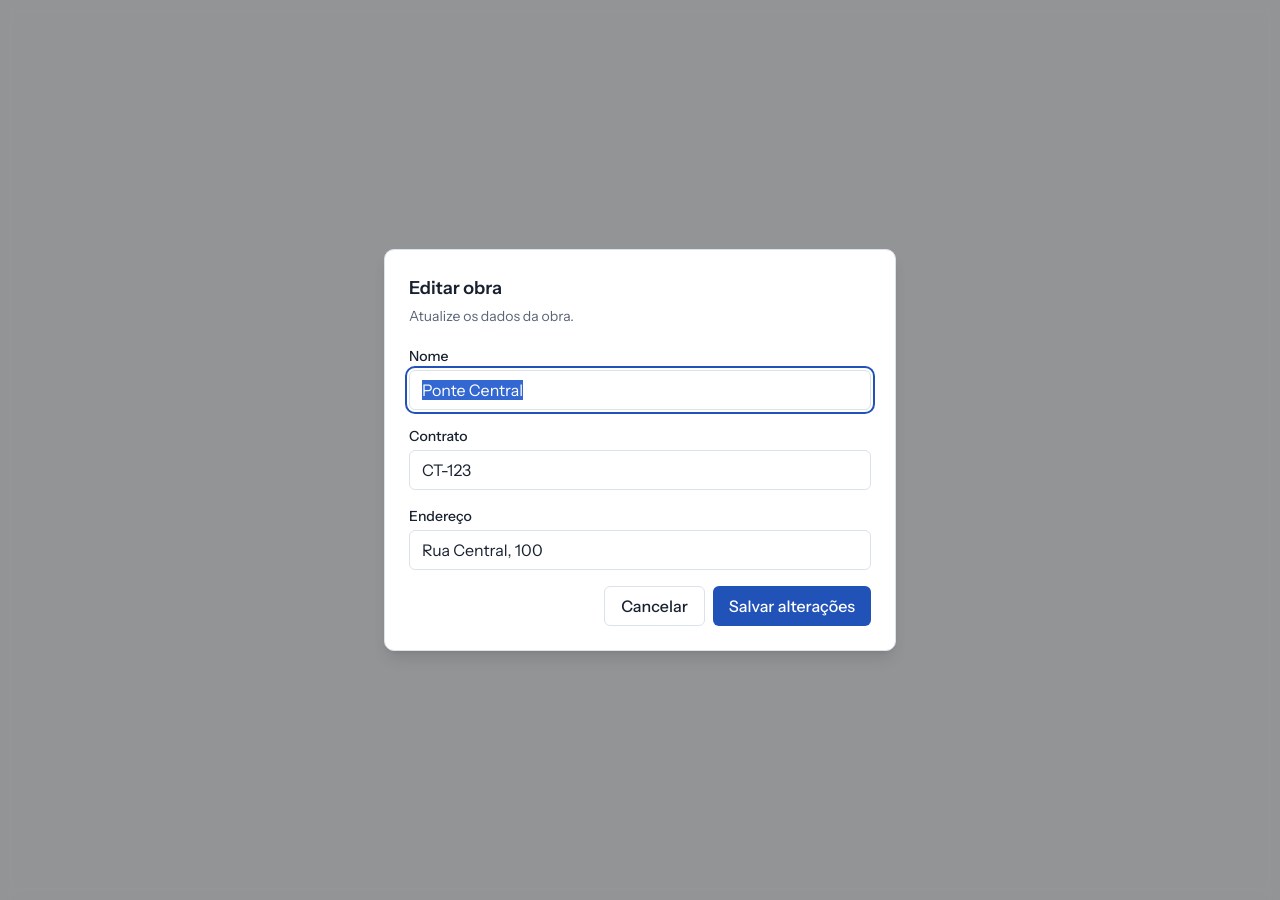
Test: ConstructionSiteForm › edits a construction site and shows DUPLICATE_CONTRACT in the form
Expected: the field showing "Ponte Central" is shown, [409,370,871,410]
Replace the text in the field labelled "Contrato" with "CT-456" at (640, 470), box [409,450,871,490]
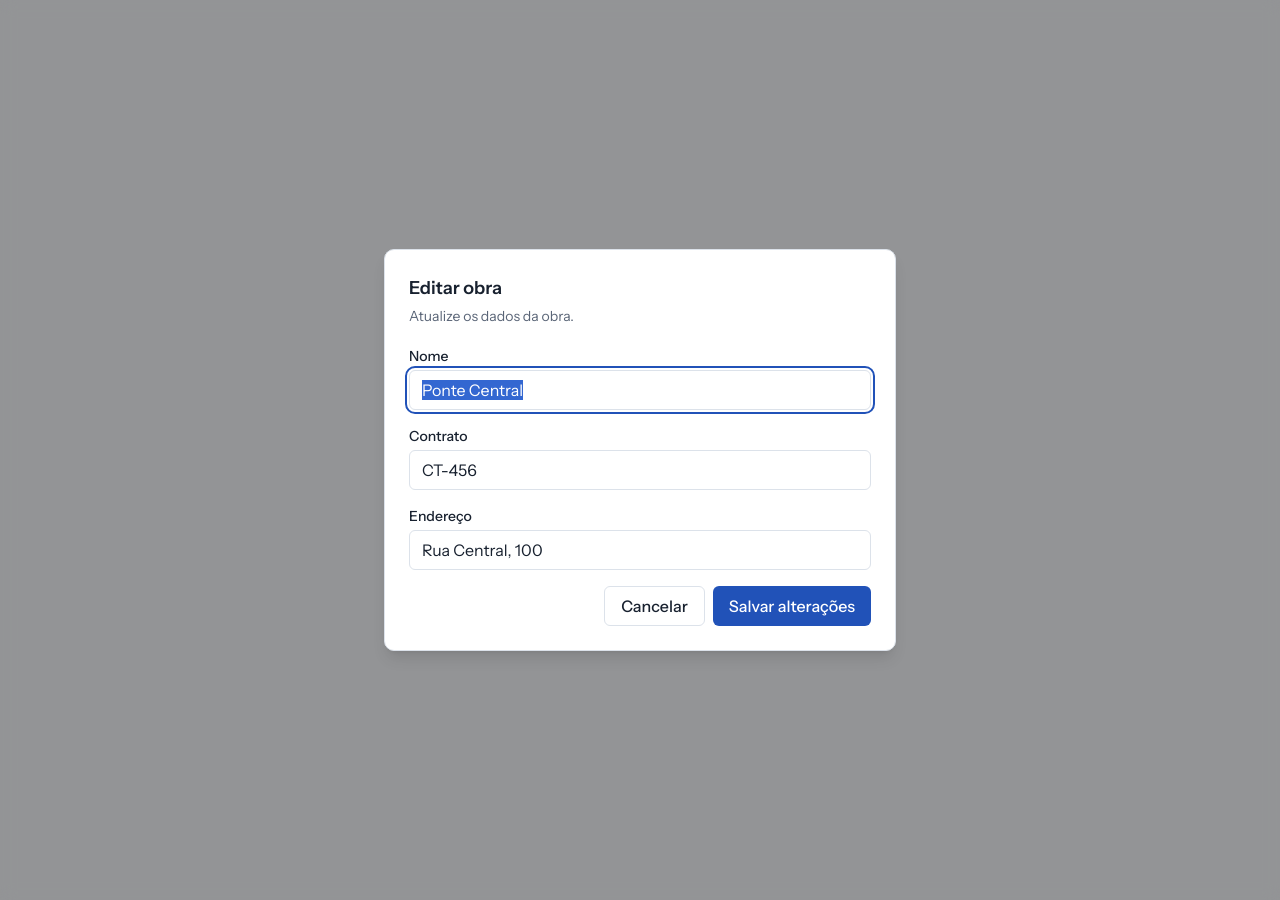
Click the button "Salvar alterações" at (792, 606), box [713,586,871,626]
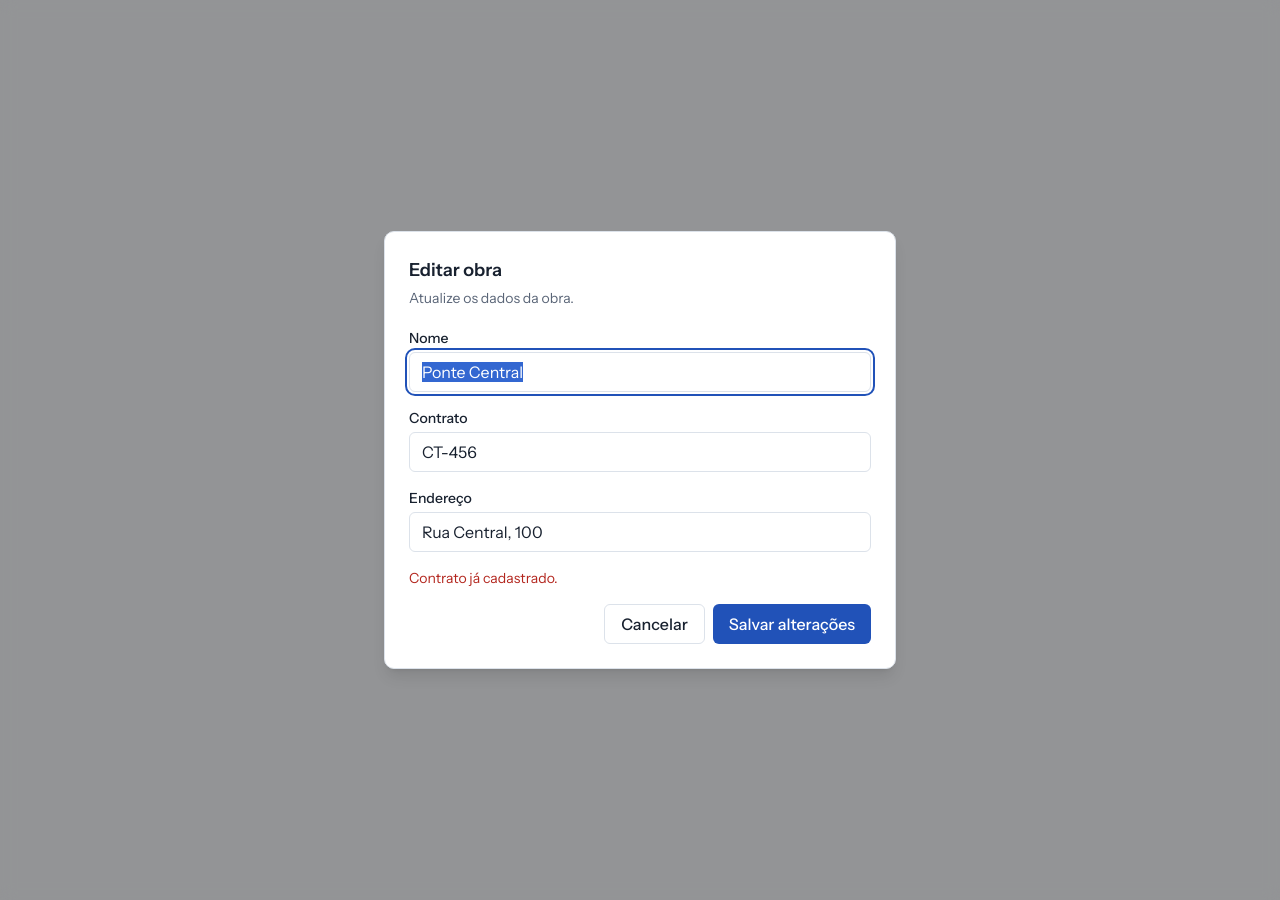
Result: the text "Contrato já cadastrado." is shown at [409,569,558,587]
